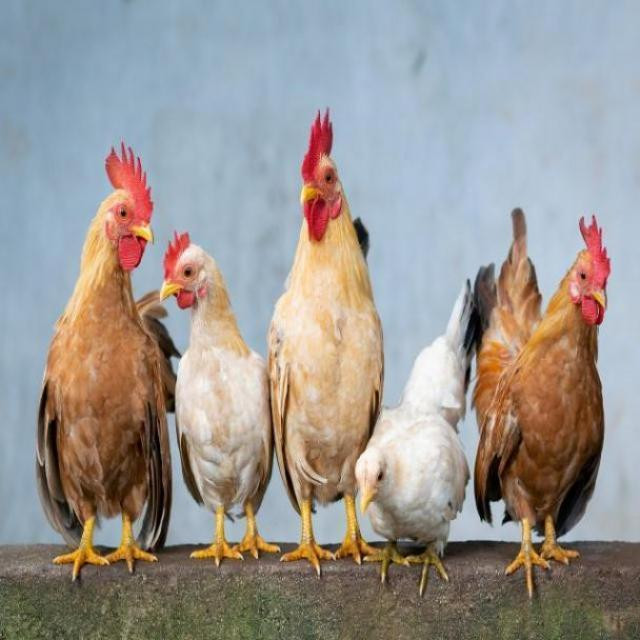Chicken: (36, 141, 176, 582), (472, 207, 610, 598), (268, 107, 381, 579), (160, 229, 280, 566), (355, 275, 475, 597)
